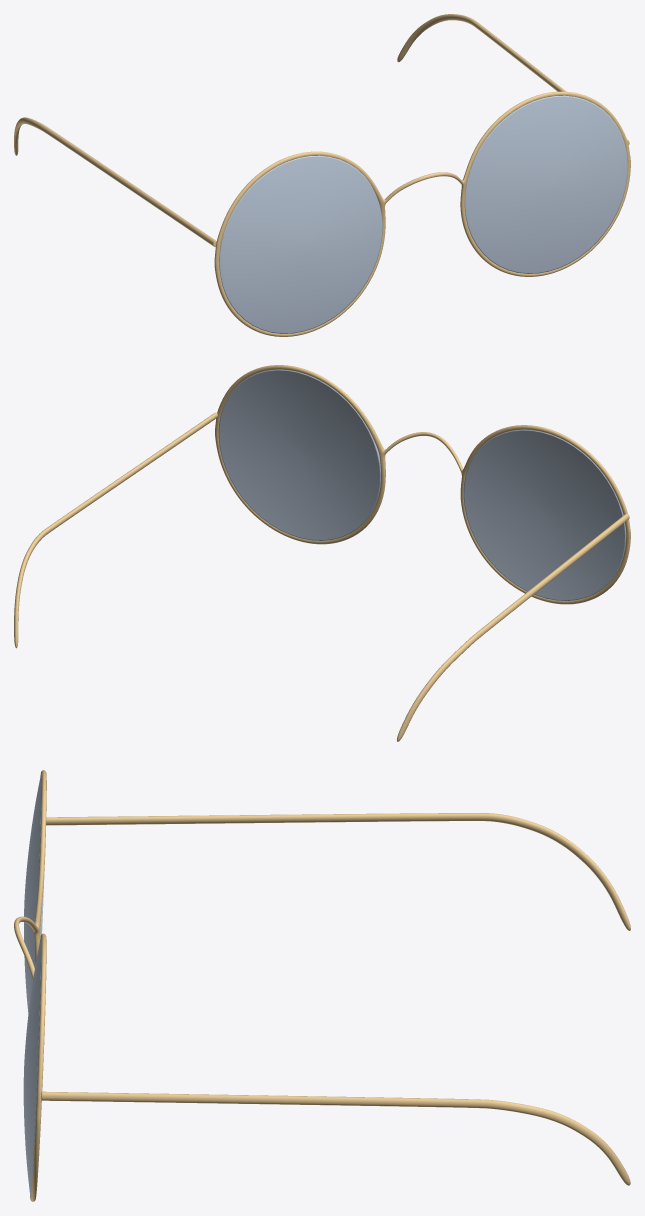
The model's file is glasses.fbx.
3 views of the same model, one above another, from view 1: azimuth 30°, elevation 25°; view 2: azimuth 150°, elevation 25°; view 3: azimuth 270°, elevation 25° (orthographic). The views are drawn at different scales.
Parts seen in each view (by area): view 1: glasses lenses, glasses frame; view 2: glasses lenses, glasses frame; view 3: glasses frame, glasses lenses.
Boxes of the visible parts, <box> form: glasses lenses: <box>219,95,627,333</box>; glasses frame: <box>14,14,630,336</box>; glasses lenses: <box>218,369,626,600</box>; glasses frame: <box>14,365,630,741</box>; glasses frame: <box>14,770,630,1201</box>; glasses lenses: <box>23,775,44,1196</box>.
Bounding box in the file's own units: 13.15 × 5.14 × 11.81.
